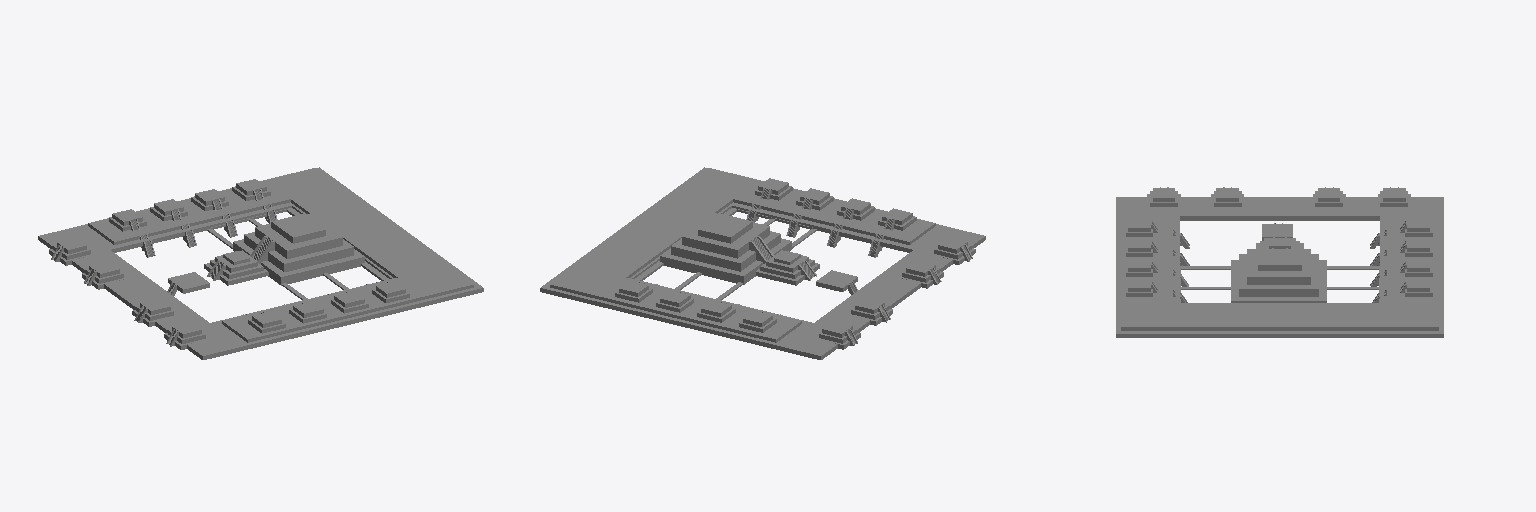
The model's file is ciudadela-01.obj.
3 renders of one model, left to right at view 1: azimuth 30°, elevation 25°; view 2: azimuth 150°, elevation 25°; view 3: azimuth 270°, elevation 25°, orthographic.
Visible parts, largest first — view 1: Box117, 025, Box094, 026, Box116, Box097, Box055; view 2: Box117, 025, Box094, 026, Box116, Box097, Box055; view 3: Box117, Box116, 026, Box094, 025, Box097.
Part boxes in pixels (x1,y1,x2,y2): Box117: (38,168,473,359); 025: (233,239,364,285); Box094: (255,214,342,258); 026: (244,232,353,271); Box116: (287,167,483,306); Box097: (271,214,325,243); Box055: (168,272,209,293); Box117: (550,168,985,359); 025: (660,238,791,284); Box094: (682,213,769,258); 026: (671,231,780,271); Box116: (540,167,737,306); Box097: (698,213,752,243); Box055: (816,270,857,291); Box117: (1116,197,1443,330); Box116: (1116,304,1443,337); 026: (1239,254,1318,296); Box094: (1247,249,1310,284); 025: (1231,260,1326,302); Box097: (1258,249,1301,270).
Bounding box in the file's own units: 108 × 14.27 × 106.